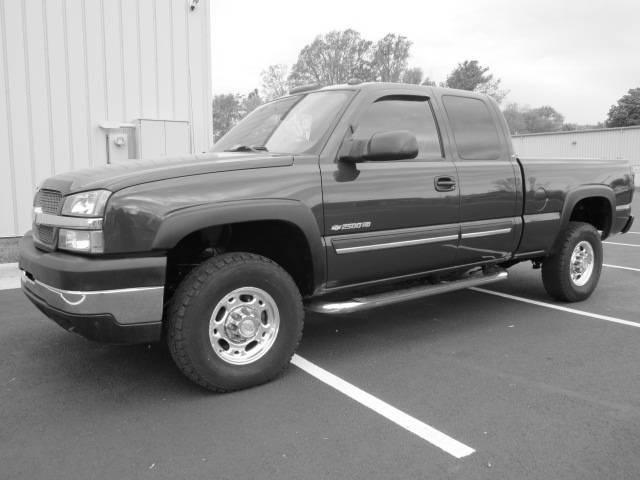car: (15, 75, 640, 398)
